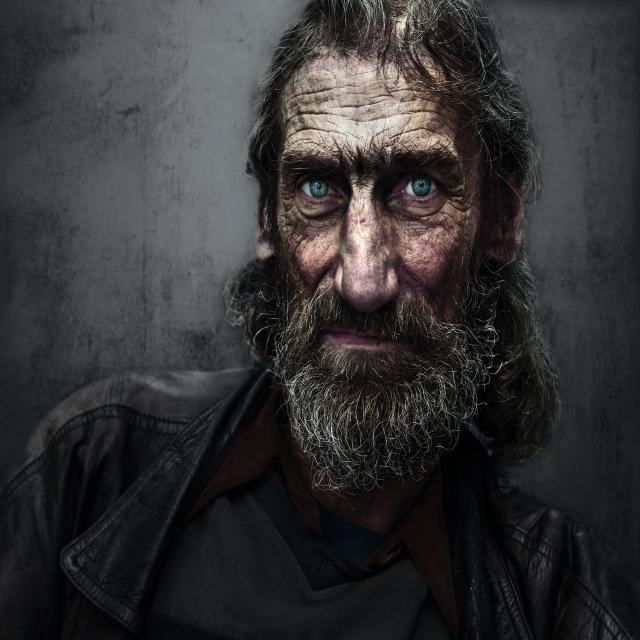Wrinkles: (286, 127, 347, 140), (287, 87, 333, 100), (389, 128, 436, 138), (413, 110, 452, 120), (289, 111, 327, 120), (344, 101, 381, 108), (398, 117, 413, 131), (374, 113, 400, 120), (368, 95, 392, 98), (351, 119, 371, 122), (290, 105, 298, 108), (298, 103, 305, 105), (286, 108, 290, 110)
